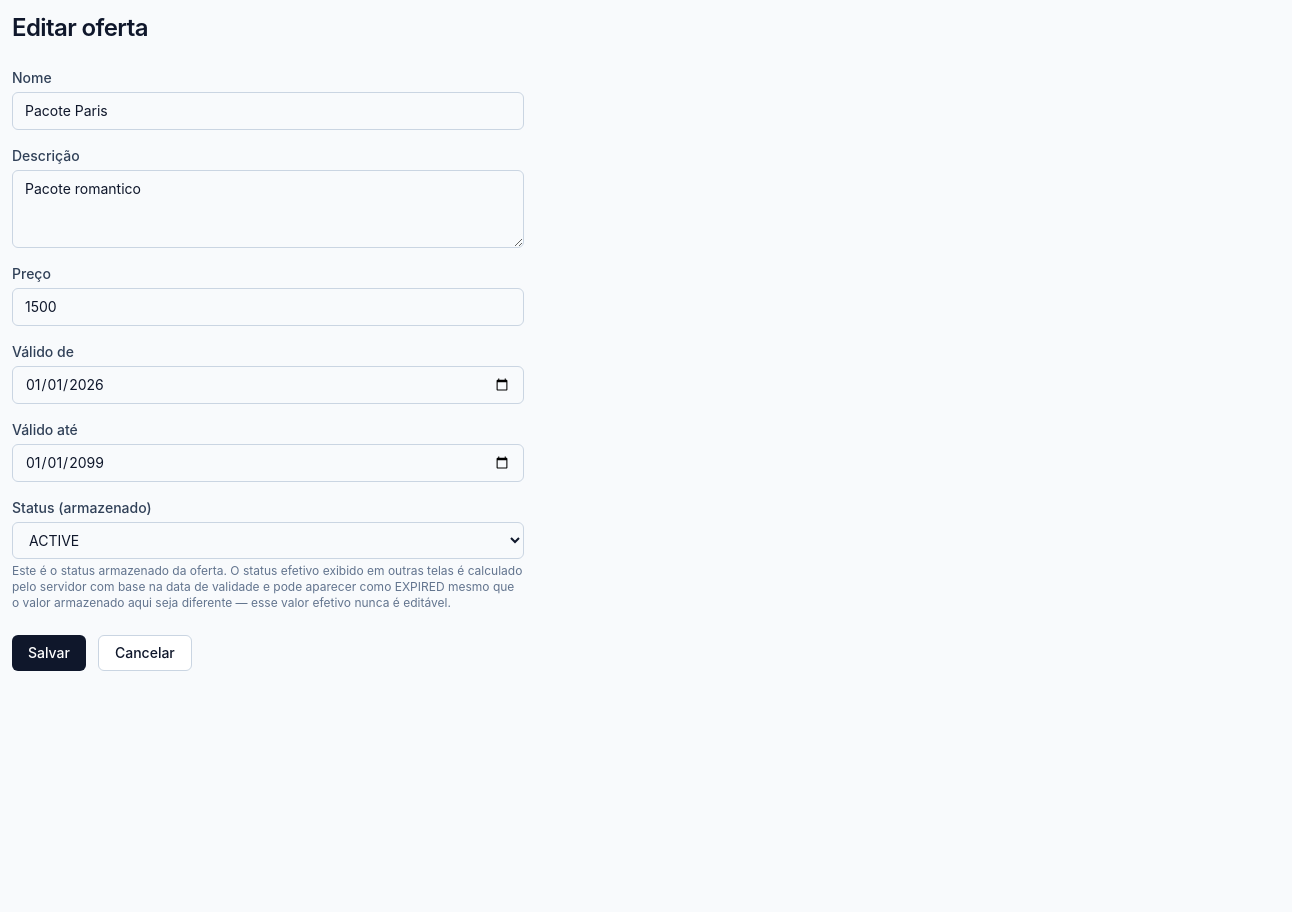
Test: OfferEditPage › 400 error shows the backend message
This screenshot has width=1292, height=912.
Expected: the field labelled "Nome" is shown, x1=12 y1=92 x2=524 y2=130
Click the button "Salvar" at {"x": 49, "y": 653}, box x1=12 y1=635 x2=86 y2=671
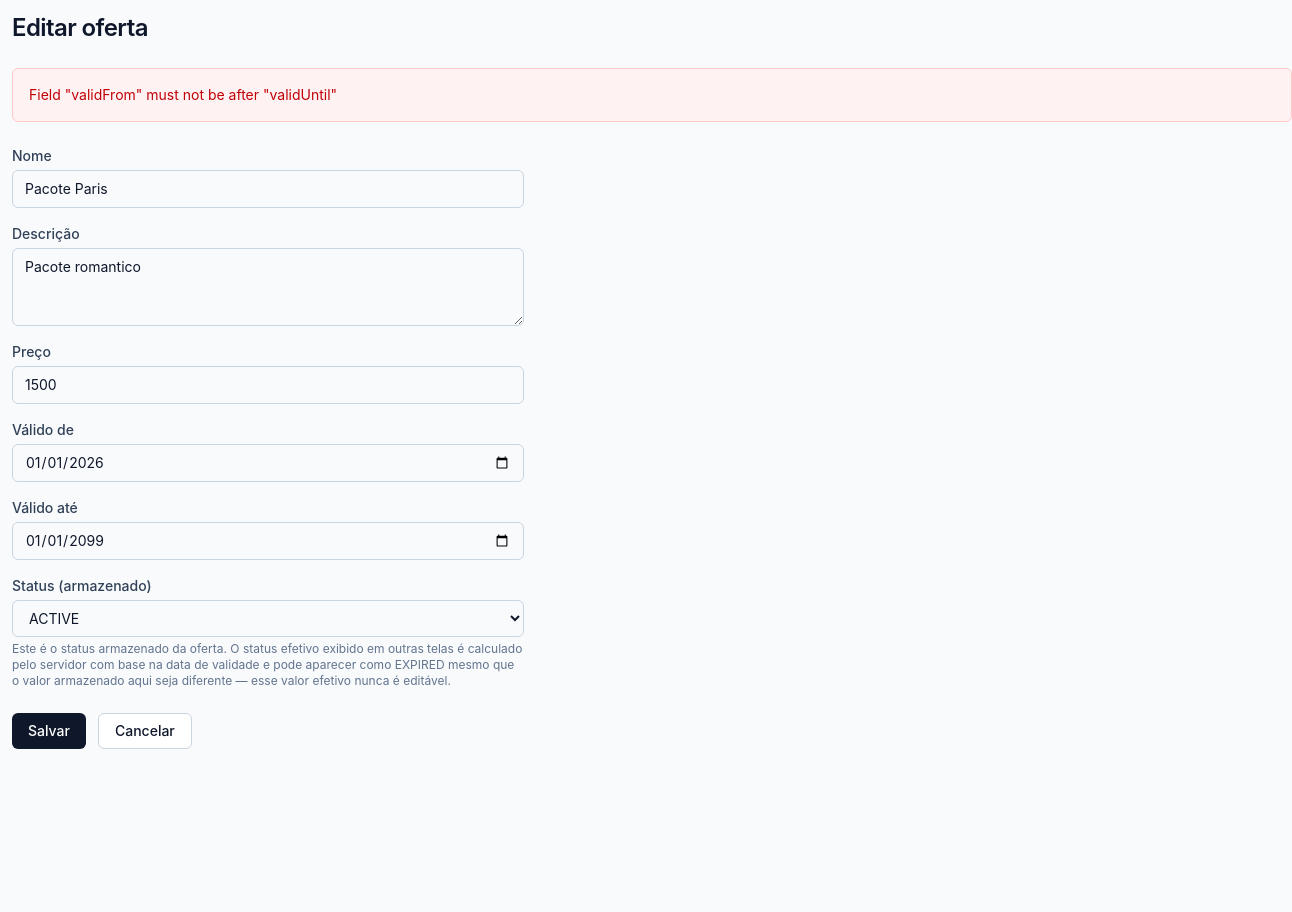
Result: the text "Field \"validFrom\" must not be after \"validUntil\"" is shown at x1=12 y1=68 x2=1291 y2=122
